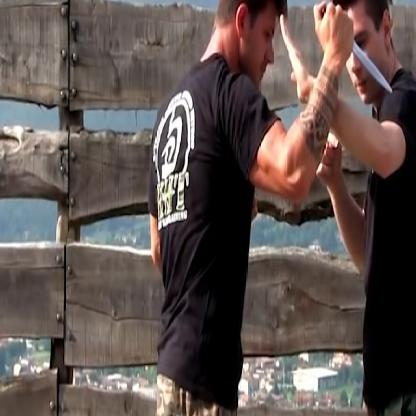knife: (312, 0, 396, 97)
